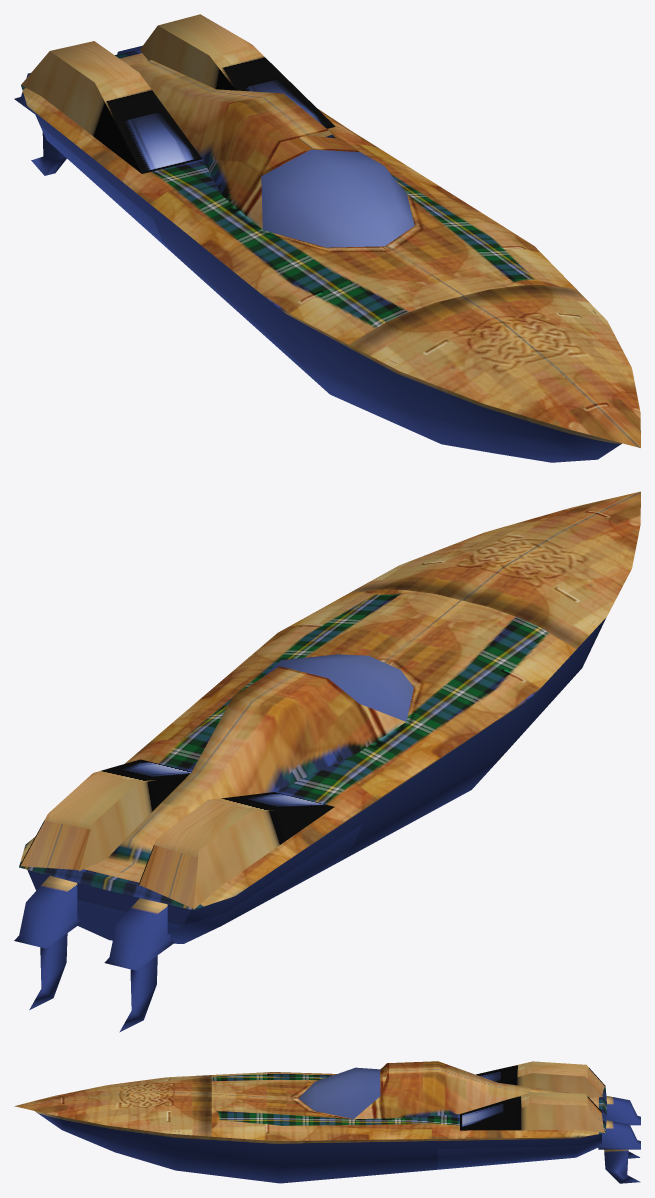
Rendered from Offshore Racer.glb.
The picture shows the model from 3 angles, top to bottom: view 1: azimuth 30°, elevation 25°; view 2: azimuth 150°, elevation 25°; view 3: azimuth 270°, elevation 25°; orthographic projection. The views are drawn at different scales.
Visible parts, largest first — view 1: phong*, cockpit, motor1; view 2: phong*, entree 1*, motor1, motor2, cockpit; view 3: phong*, cockpit, motor2, motor1, entree 1*.
Boxes of the visible parts, x1,y1,x2,y2 form: phong*: [21, 14, 640, 462]; cockpit: [261, 149, 414, 247]; motor1: [14, 73, 66, 175]; phong*: [19, 491, 640, 943]; entree 1*: [20, 820, 198, 908]; motor1: [104, 898, 174, 1032]; motor2: [14, 876, 80, 1009]; cockpit: [263, 654, 413, 721]; phong*: [14, 1061, 606, 1183]; cockpit: [298, 1067, 380, 1118]; motor2: [598, 1120, 640, 1183]; motor1: [606, 1095, 640, 1158]; entree 1*: [587, 1068, 604, 1129].
Bounding box in the file's own units: 2.27 × 1.67 × 8.7.
2 materials, 2 textured.
